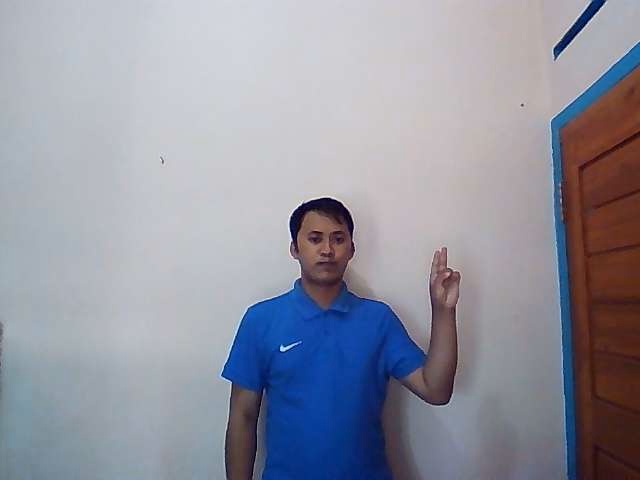U: (426, 245, 463, 310)
